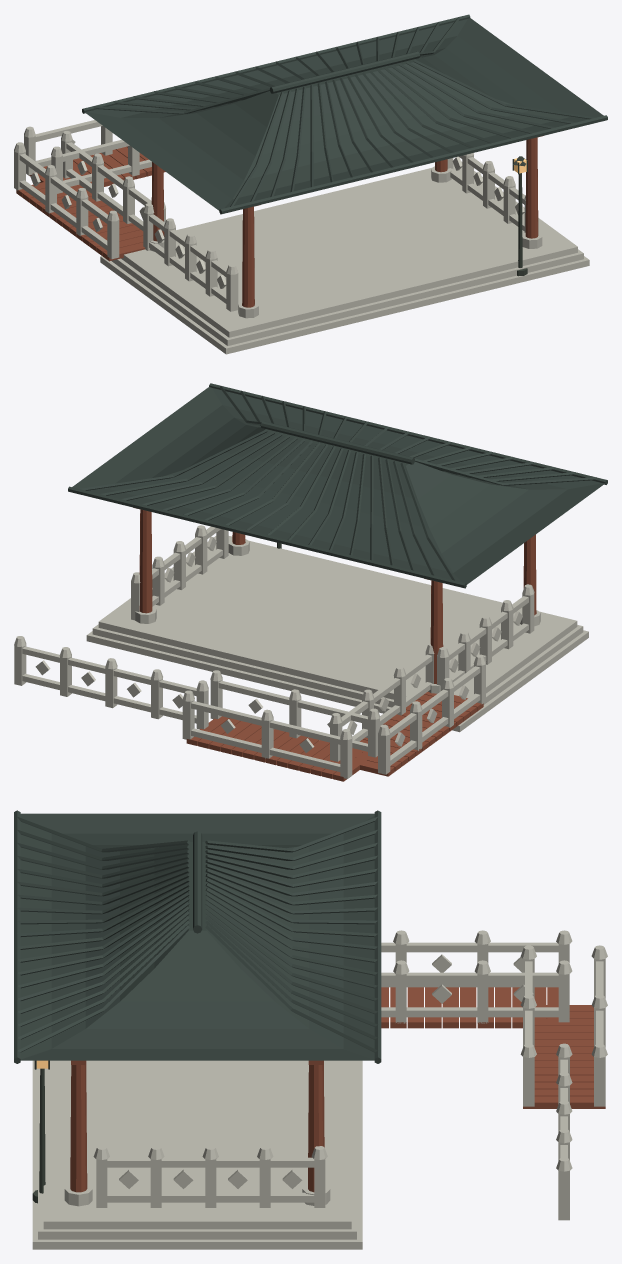
File: pinghu.glb
3 renders of one model, top to bottom at view 1: azimuth 30°, elevation 25°; view 2: azimuth 150°, elevation 25°; view 3: azimuth 270°, elevation 25°, orthographic. The views are drawn at different scales.
Visible parts, largest first — view 1: Limestone, Dark_Tile, Lacquered_Wood, Patinated_Iron; view 2: Limestone, Dark_Tile, Lacquered_Wood; view 3: Dark_Tile, Limestone, Lacquered_Wood, Patinated_Iron.
Boxes of the visible parts, x1,y1,x2,y2 form: Limestone: (14,120,589,354); Dark_Tile: (82,14,607,214); Lacquered_Wood: (16,135,543,307); Patinated_Iron: (512,156,527,276); Limestone: (14,525,588,778); Dark_Tile: (68,383,607,588); Lacquered_Wood: (133,507,536,781); Dark_Tile: (14,810,381,1063); Limestone: (32,930,607,1249); Lacquered_Wood: (70,987,605,1192); Patinated_Iron: (32,1060,49,1203).
Bounding box in the file's own units: 9.56 × 4.61 × 9.72.
